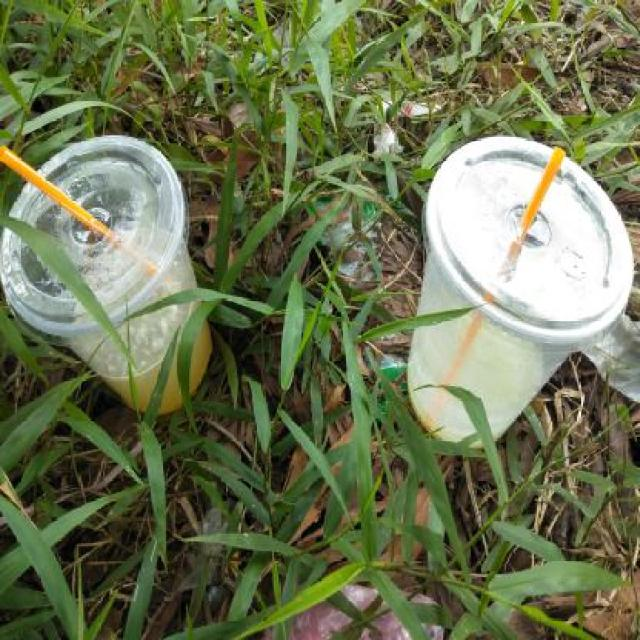plastic: (406, 134, 634, 448), (0, 134, 212, 416)
